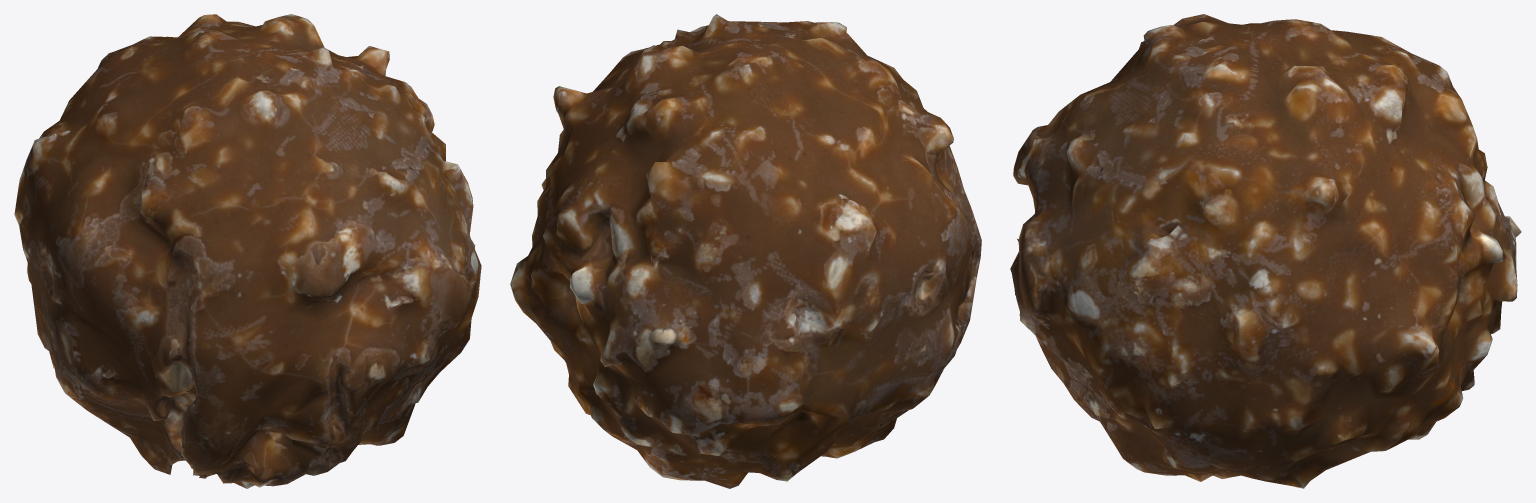
File: ferrero.glb
3 views of the same model, side by side, from view 1: azimuth 30°, elevation 25°; view 2: azimuth 150°, elevation 25°; view 3: azimuth 270°, elevation 25° (orthographic). The views are drawn at different scales.
Parts seen in each view (by area): view 1: _gltfNode_0; view 2: _gltfNode_0; view 3: _gltfNode_0.
Part boxes in pixels (x1,y1,x2,y2): _gltfNode_0: (14,14,481,488); _gltfNode_0: (510,14,981,488); _gltfNode_0: (1010,14,1521,488).
Bounding box in the file's own units: 0.0307 × 0.0301 × 0.0332.
Materials: 1 (1 with a texture image).
